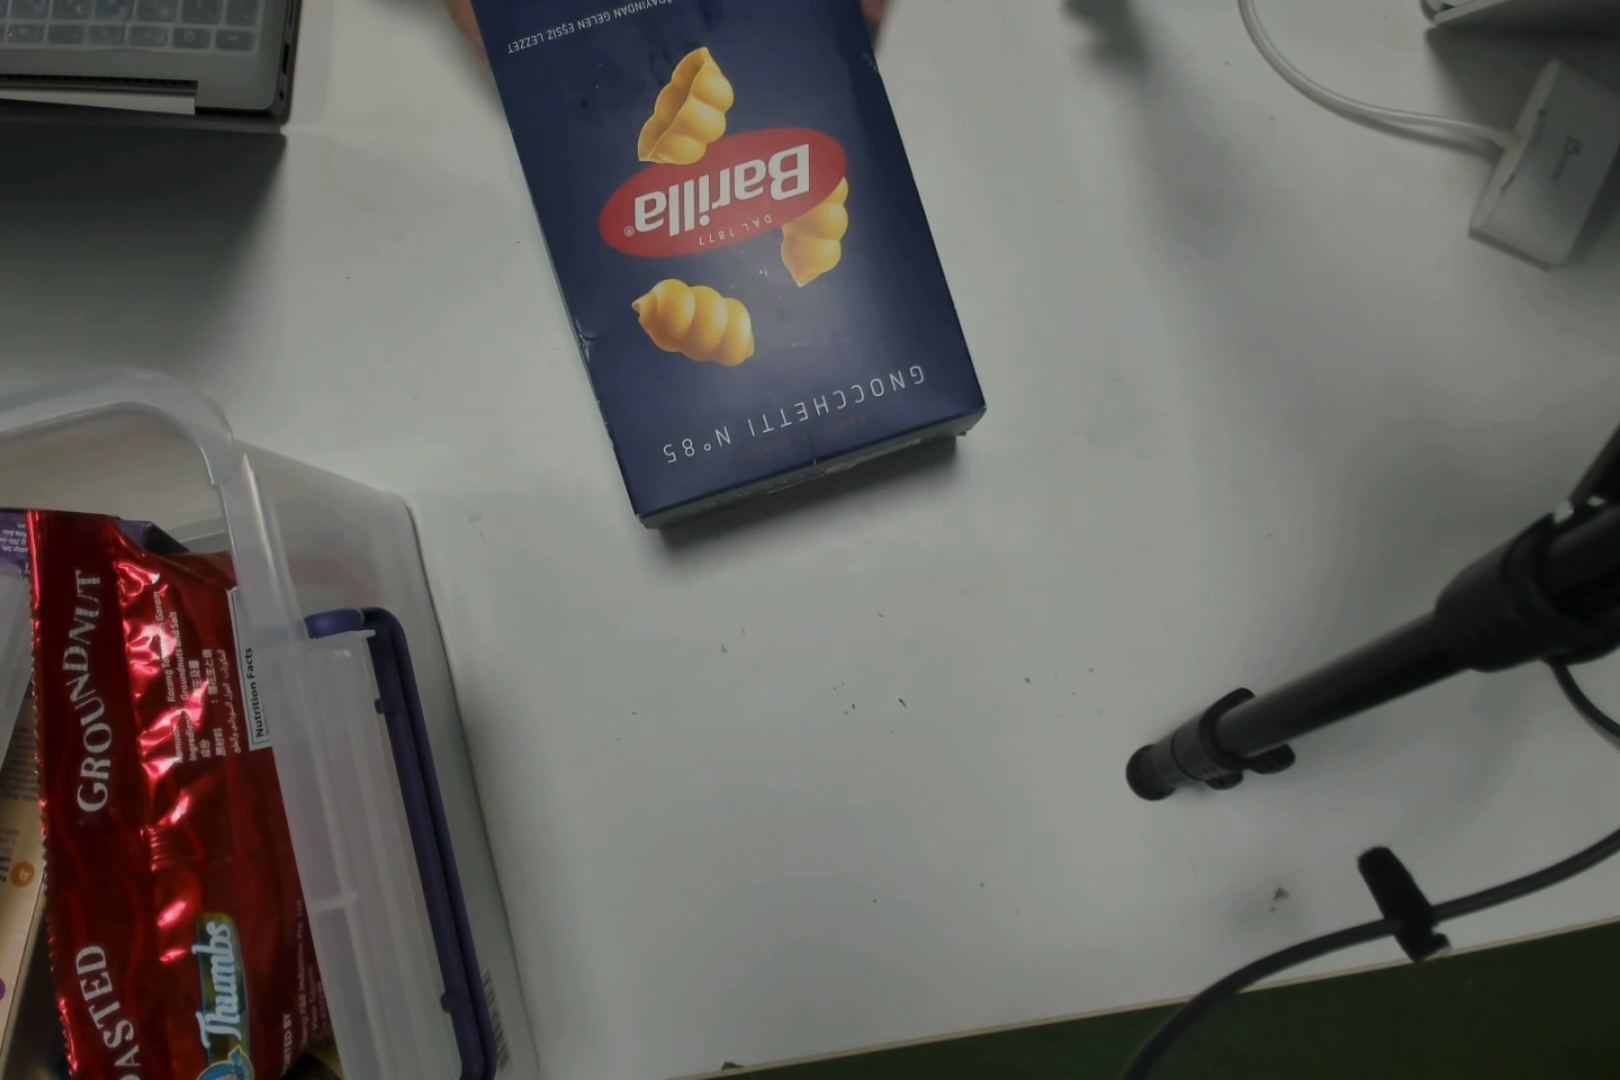Pasta_500-599g_NonHalal_NonHealthy: (570, 17, 959, 485)
